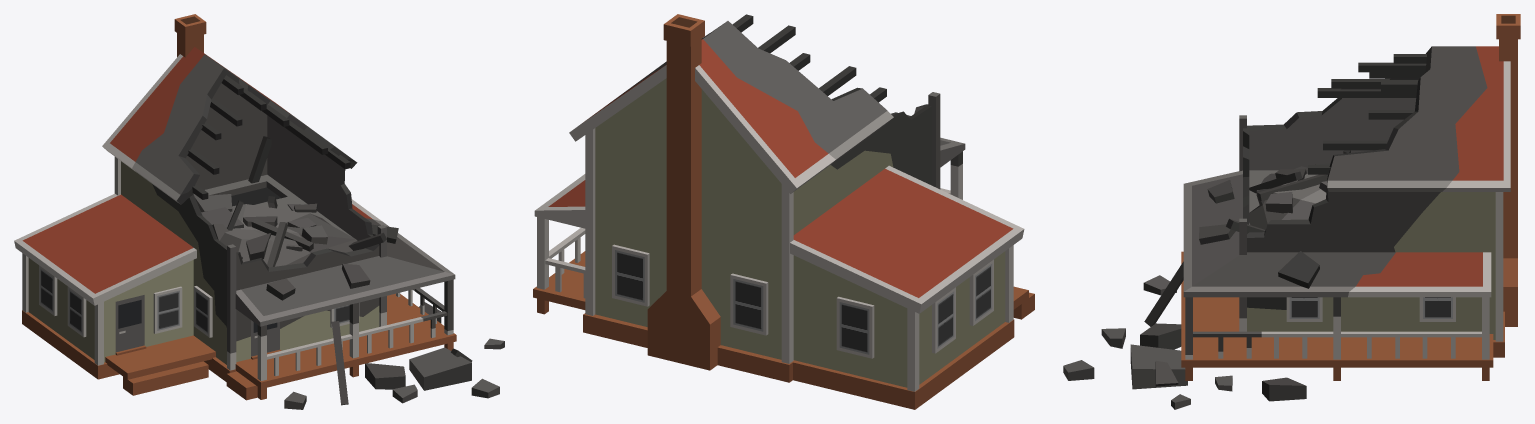
Rendered from SA_Bld_House_Damaged_02.gltf.
The picture shows the model from 3 angles, left to right: view 1: azimuth 30°, elevation 25°; view 2: azimuth 150°, elevation 25°; view 3: azimuth 270°, elevation 25°; orthographic projection. The views are drawn at different scales.
Visible parts, largest first — view 1: SA_Bld_House_Damaged_02; view 2: SA_Bld_House_Damaged_02; view 3: SA_Bld_House_Damaged_02.
Part boxes in pixels (bbox=[...]): SA_Bld_House_Damaged_02: bbox=[14, 14, 504, 409]; SA_Bld_House_Damaged_02: bbox=[533, 14, 1034, 409]; SA_Bld_House_Damaged_02: bbox=[1063, 14, 1520, 409].
Bounding box in the file's own units: 24.14 × 17.94 × 24.2.
1 material, 1 textured.
